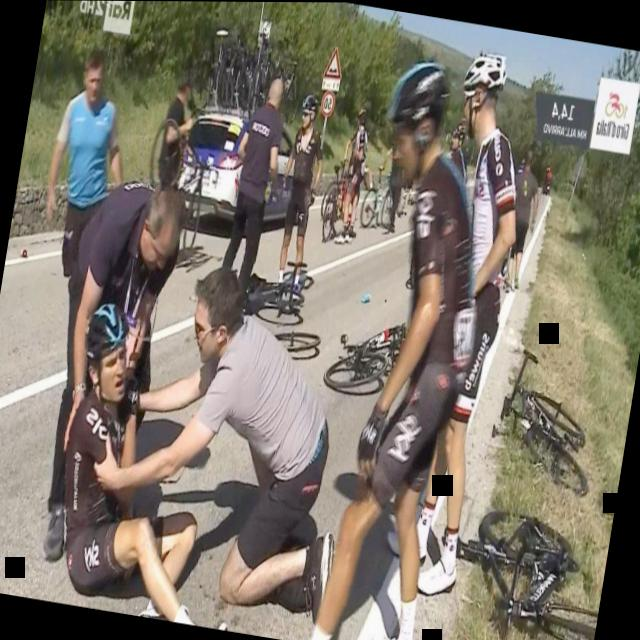Fall-Detected: (40, 293, 281, 632)
